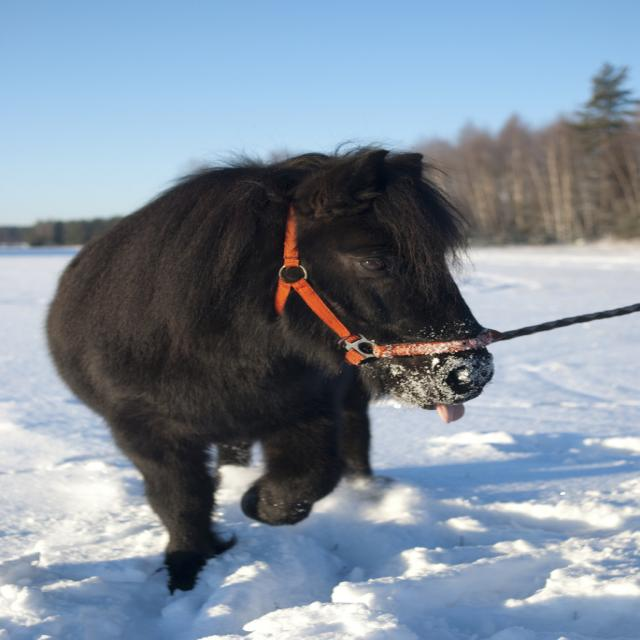Horse: (43, 141, 494, 591)
